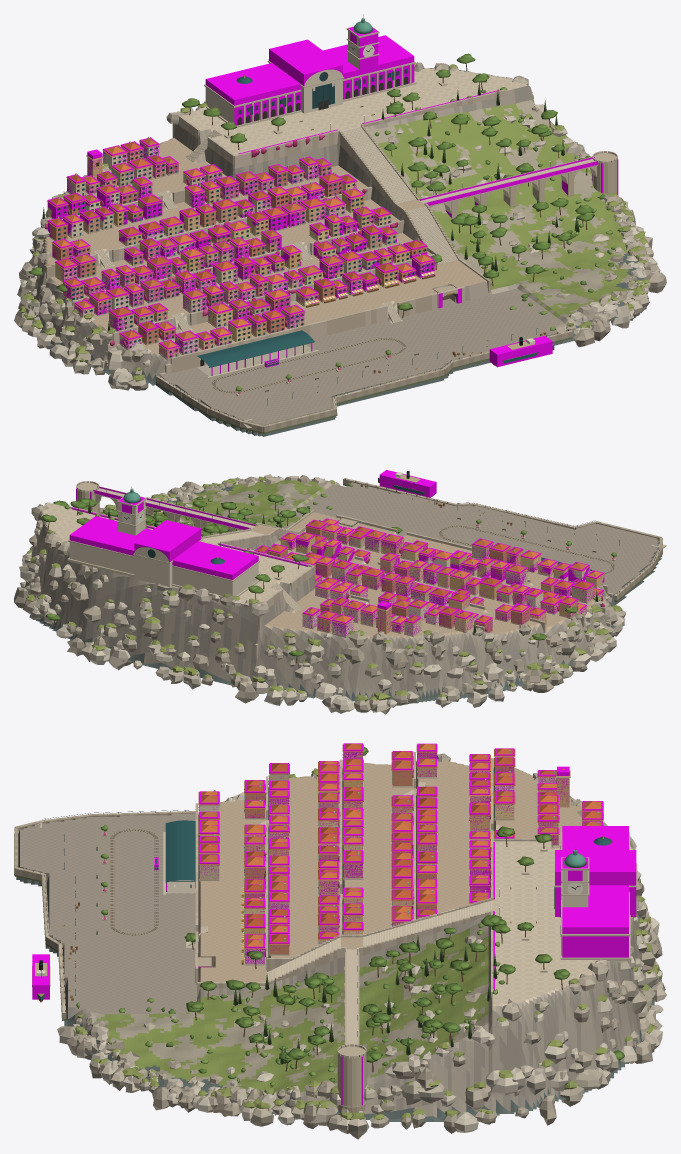
Rendered from bellweather_city.glb.
3 views of the same model, one above another, from view 1: azimuth 30°, elevation 25°; view 2: azimuth 150°, elevation 25°; view 3: azimuth 270°, elevation 25° (orthographic). The views are drawn at different scales.
Parts seen in each view (by area): view 1: CITY_terrain__col, COL_village, CITY_village_walls, CITY_village_roofs, CITY_rocks, CITY_walls, COL_civic, CITY_foliage, CITY_village_trims, CITY_stairs, CITY_quay_seawall, CITY_civic_stone (+6 smaller); view 2: CITY_terrain__col, CITY_rocks, CITY_village_walls, COL_village, CITY_village_roofs, COL_civic, CITY_civic_stone, CITY_foliage, CITY_walls, CITY_quay_seawall, CITY_viaduct, CITY_village_stone (+2 smaller); view 3: CITY_terrain__col, CITY_rocks, CITY_village_roofs, COL_village, CITY_foliage, COL_civic, CITY_village_walls, CITY_walls, CITY_viaduct, CITY_stairs, CITY_quay_seawall, CITY_civic_stone (+5 smaller).
Boxes of the visible parts, x1=… form: CITY_terrain__col: x1=24, y1=68, x2=648, y2=436; COL_village: x1=47, y1=137, x2=434, y2=358; CITY_village_walls: x1=47, y1=143, x2=431, y2=358; CITY_village_roofs: x1=47, y1=138, x2=434, y2=350; CITY_rocks: x1=14, y1=62, x2=666, y2=390; CITY_walls: x1=29, y1=89, x2=506, y2=375; COL_civic: x1=205, y1=27, x2=618, y2=217; CITY_foliage: x1=28, y1=53, x2=630, y2=345; CITY_village_trims: x1=57, y1=137, x2=433, y2=357; CITY_stairs: x1=96, y1=126, x2=457, y2=331; CITY_quay_seawall: x1=155, y1=330, x2=572, y2=433; CITY_civic_stone: x1=204, y1=18, x2=447, y2=138; CITY_terrain__col: x1=24, y1=480, x2=661, y2=703; CITY_rocks: x1=14, y1=474, x2=626, y2=714; CITY_village_walls: x1=266, y1=523, x2=604, y2=636; COL_village: x1=254, y1=518, x2=604, y2=635; CITY_village_roofs: x1=256, y1=519, x2=604, y2=625; COL_civic: x1=69, y1=486, x2=308, y2=579; CITY_civic_stone: x1=67, y1=489, x2=308, y2=599; CITY_foliage: x1=41, y1=482, x2=604, y2=656; CITY_walls: x1=69, y1=506, x2=613, y2=683; CITY_quay_seawall: x1=343, y1=478, x2=666, y2=601; CITY_viaduct: x1=76, y1=481, x2=255, y2=532; CITY_village_stone: x1=288, y1=539, x2=604, y2=637; CITY_terrain__col: x1=16, y1=759, x2=654, y2=1121; CITY_rocks: x1=57, y1=753, x2=666, y2=1139; CITY_village_roofs: x1=198, y1=743, x2=603, y2=949; COL_village: x1=199, y1=743, x2=602, y2=963; CITY_foliage: x1=76, y1=747, x2=624, y2=1090; COL_civic: x1=341, y1=826, x2=636, y2=1105; CITY_village_walls: x1=199, y1=752, x2=602, y2=963; CITY_walls: x1=195, y1=752, x2=550, y2=997; CITY_viaduct: x1=337, y1=947, x2=366, y2=1113; CITY_stairs: x1=186, y1=783, x2=560, y2=981; CITY_quay_seawall: x1=14, y1=811, x2=195, y2=1020; CITY_civic_stone: x1=493, y1=832, x2=637, y2=989.
Size of what is drawn, in the model's own units: 423 by 122 by 354.
